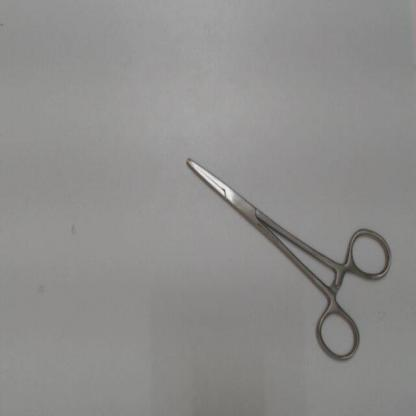Mayo Needle Holder: (172, 143, 402, 370)
